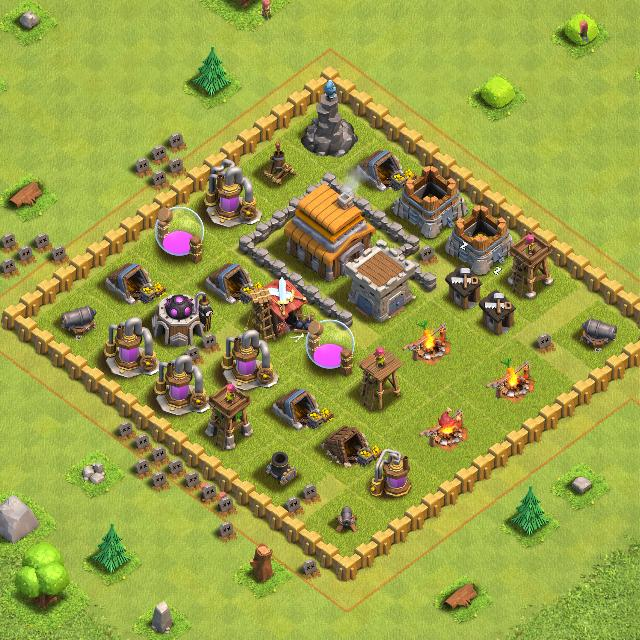Canhao: (208, 382, 254, 450), (358, 346, 404, 408), (509, 235, 554, 298), (56, 301, 102, 342), (576, 316, 622, 351)
